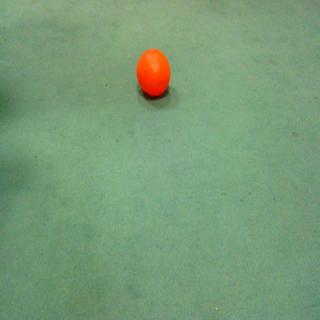orange: (130, 39, 184, 109)
